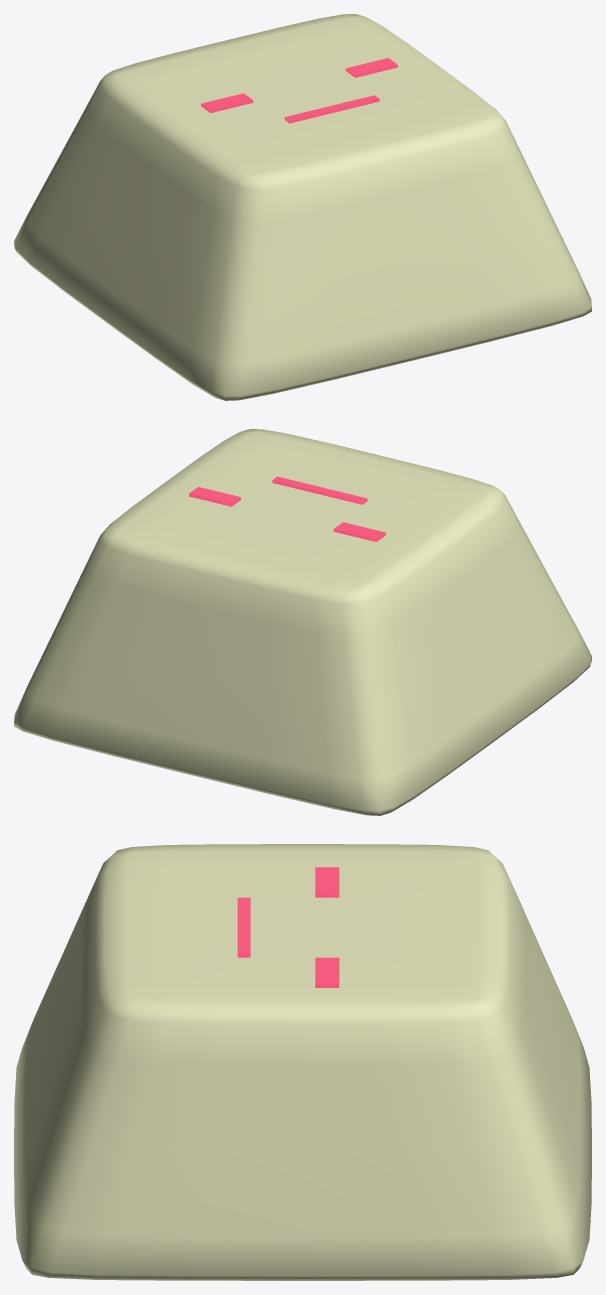
File: keyVantuz.glb
3 views of the same model, one above another, from view 1: azimuth 30°, elevation 25°; view 2: azimuth 150°, elevation 25°; view 3: azimuth 270°, elevation 25° (orthographic). The views are drawn at different scales.
Visible parts, largest first — view 1: Cube, Text; view 2: Cube, Text; view 3: Cube, Text.
Part boxes in pixels (<box>): Cube: <box>14,14,591,400</box>; Text: <box>201,58,397,123</box>; Cube: <box>14,429,591,815</box>; Text: <box>189,476,385,541</box>; Cube: <box>14,844,591,1280</box>; Text: <box>237,867,339,987</box>.
Size of the model in its own units: 1.97 by 0.9057 by 1.97.
